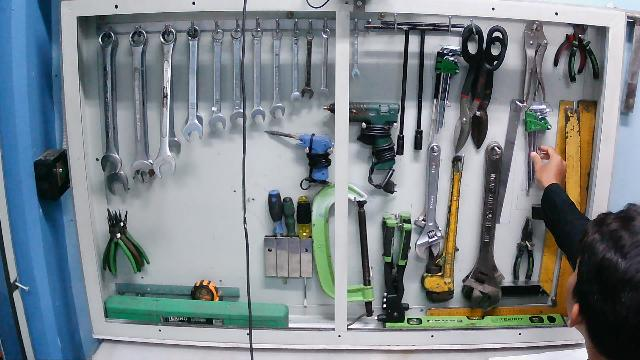kunci_l_bintang: (523, 101, 555, 197)
